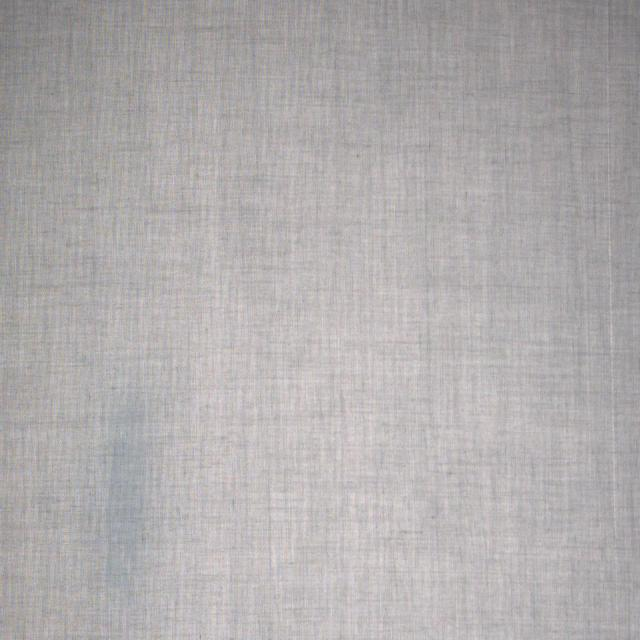dirty: (110, 389, 140, 594)
